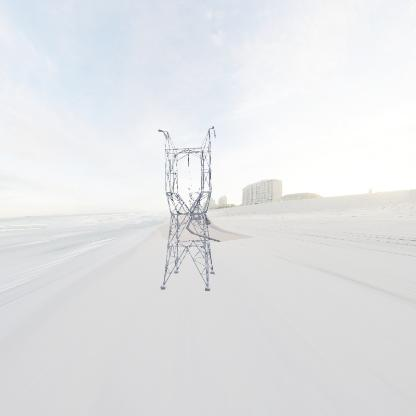tower: (154, 126, 218, 291)
